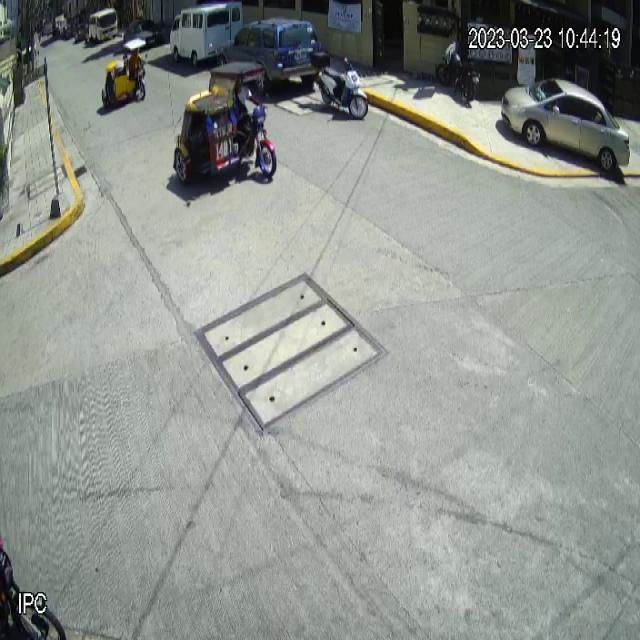Car: (501, 77, 632, 175)
Motorcycle: (308, 51, 369, 120)
Tricycle: (173, 59, 278, 185), (100, 36, 146, 109)
Van: (169, 0, 245, 68)
